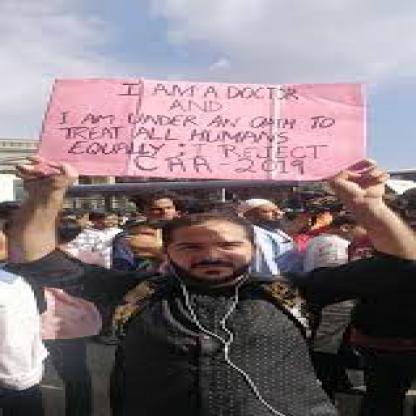BANNER: (24, 77, 369, 186)
